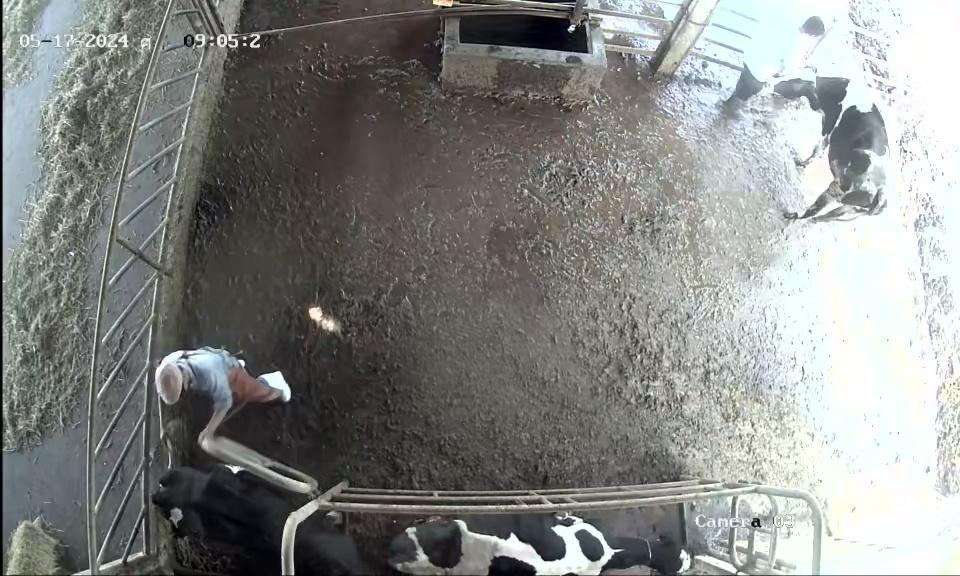stand: (142, 455, 384, 576), (393, 508, 706, 576), (779, 68, 901, 236)
